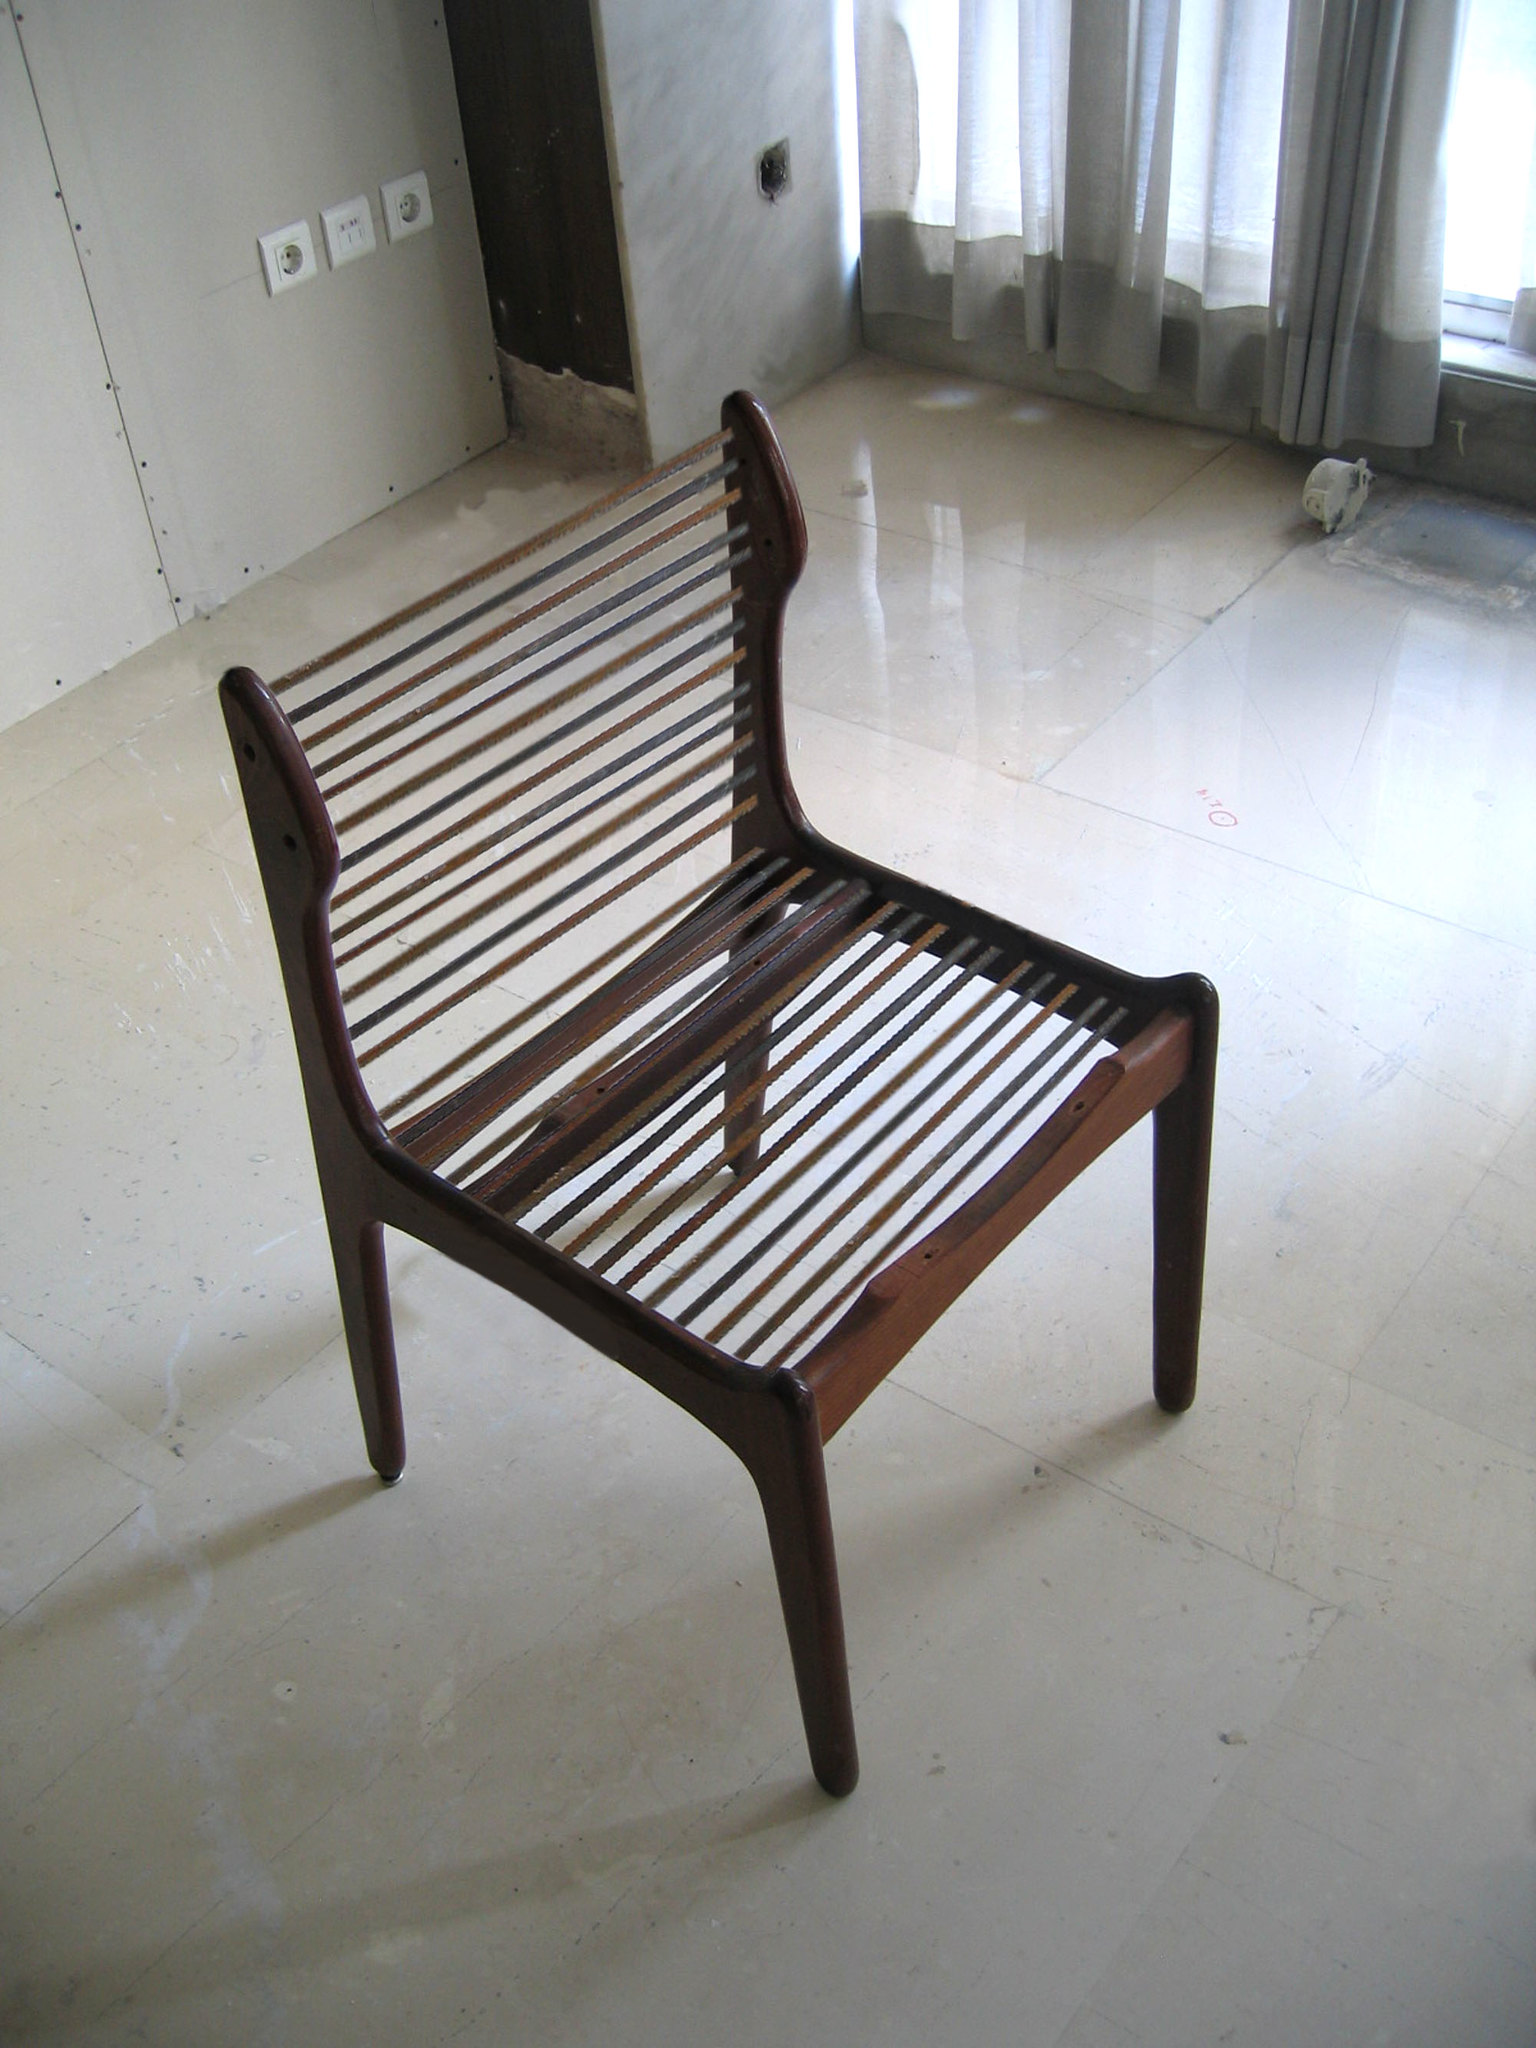chair: (177, 435, 1288, 1871)
